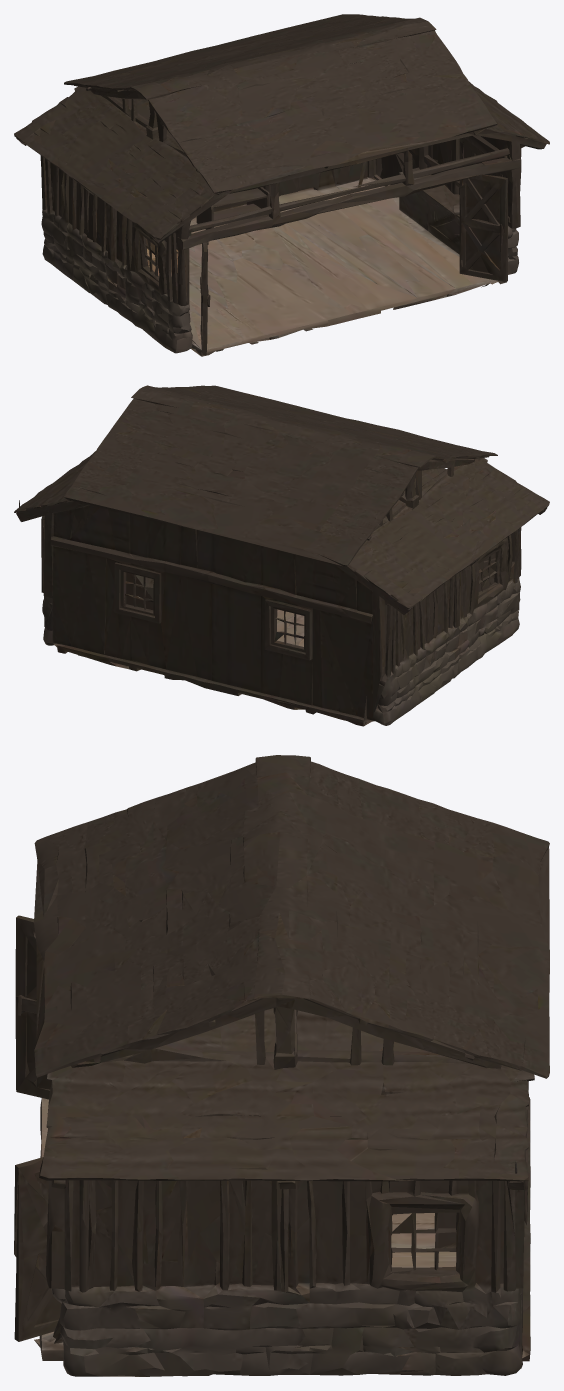
File: stable.glb
3 renders of one model, top to bottom at view 1: azimuth 30°, elevation 25°; view 2: azimuth 150°, elevation 25°; view 3: azimuth 270°, elevation 25°, orthographic. The views are drawn at different scales.
Size of the model in its own units: 1.9 by 0.975 by 1.31.
1 material, 1 textured.
